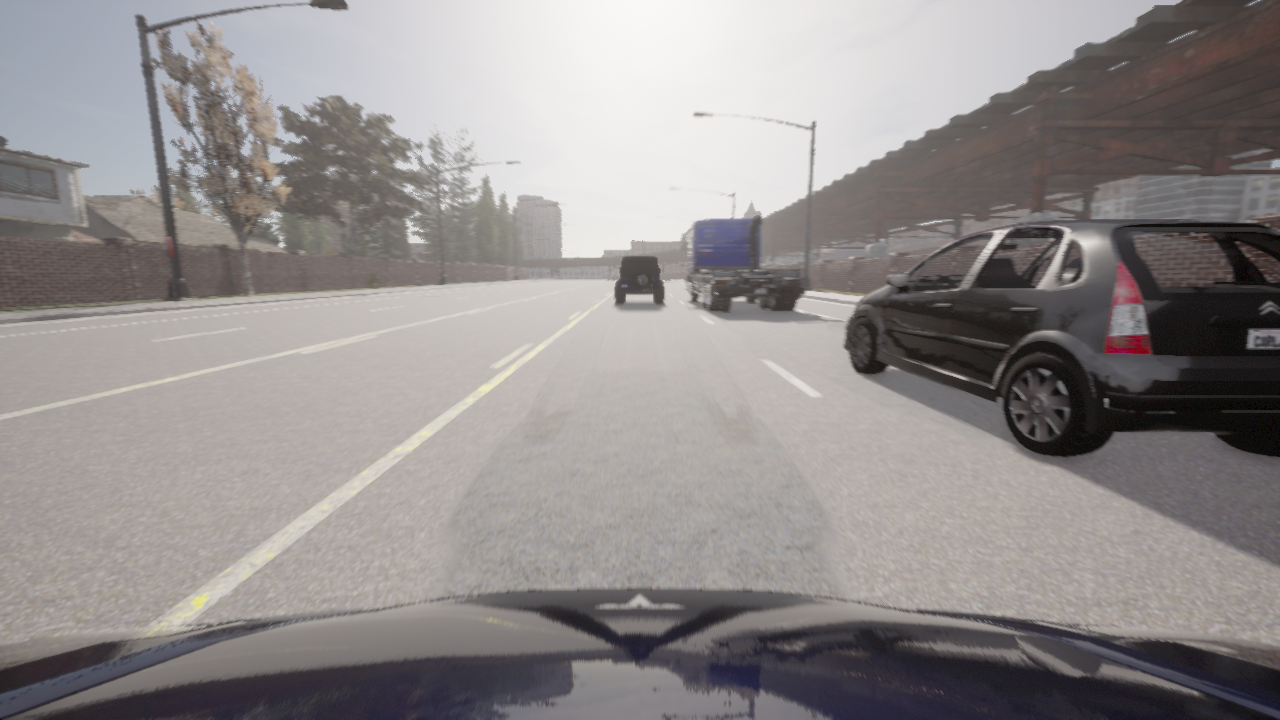cyclist: (0, 588, 1279, 719), (845, 219, 1279, 456), (682, 215, 805, 311), (616, 256, 663, 303)
